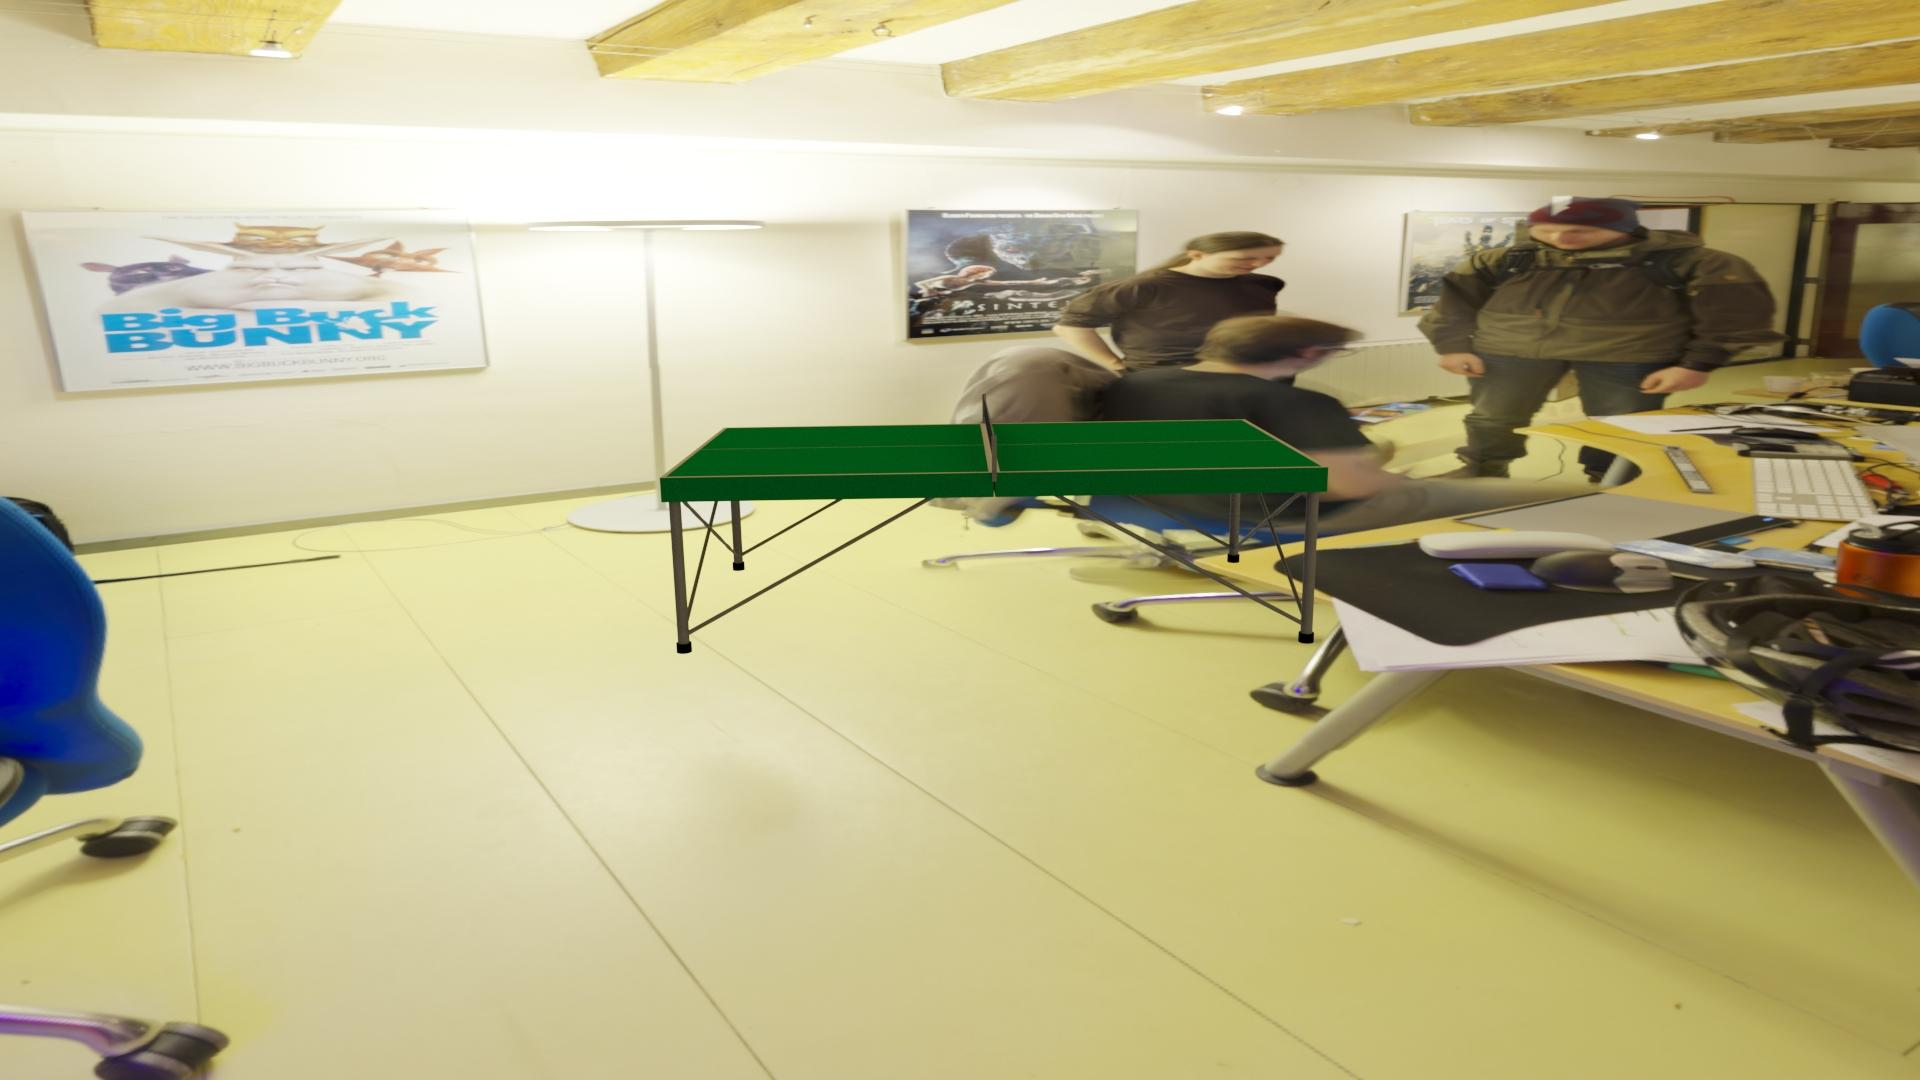table: (666, 419, 1323, 477)
